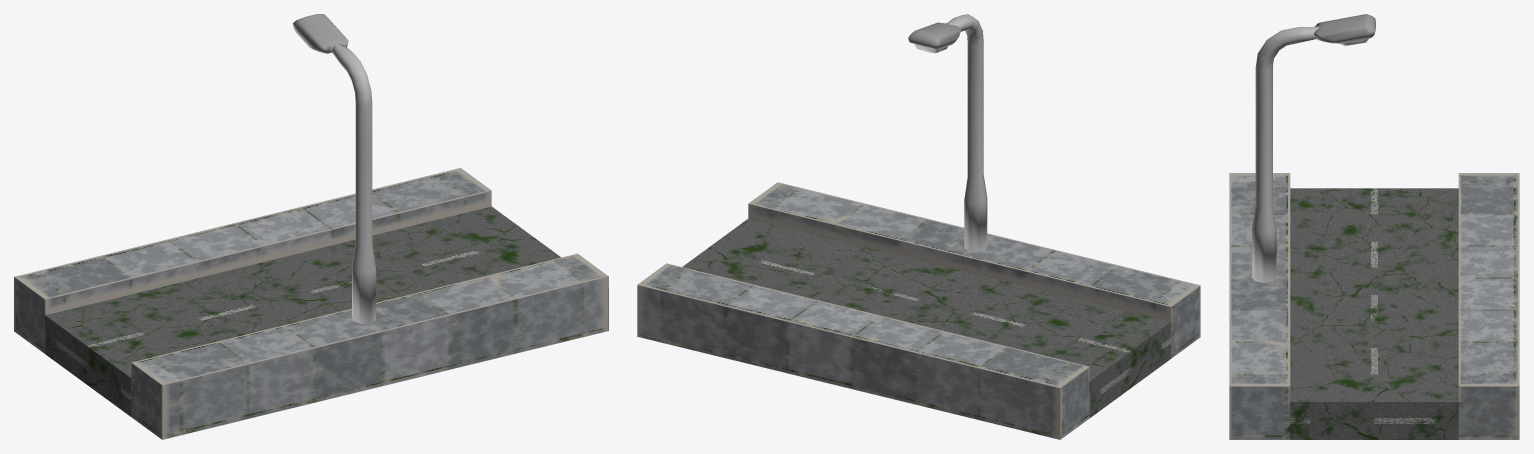
Rendered from Road(w light).fbx.
3 renders of one model, left to right at view 1: azimuth 30°, elevation 25°; view 2: azimuth 150°, elevation 25°; view 3: azimuth 270°, elevation 25°, orthographic. The views are drawn at different scales.
Visible parts, largest first — view 1: Paving; view 2: Paving; view 3: Paving.
Part boxes in pixels (bbox=[...]): Paving: bbox=[14, 14, 608, 439]; Paving: bbox=[637, 14, 1200, 439]; Paving: bbox=[1229, 14, 1519, 439].
Size of the model in its own units: 1200 by 822 by 690.
5 materials, 2 textured.
